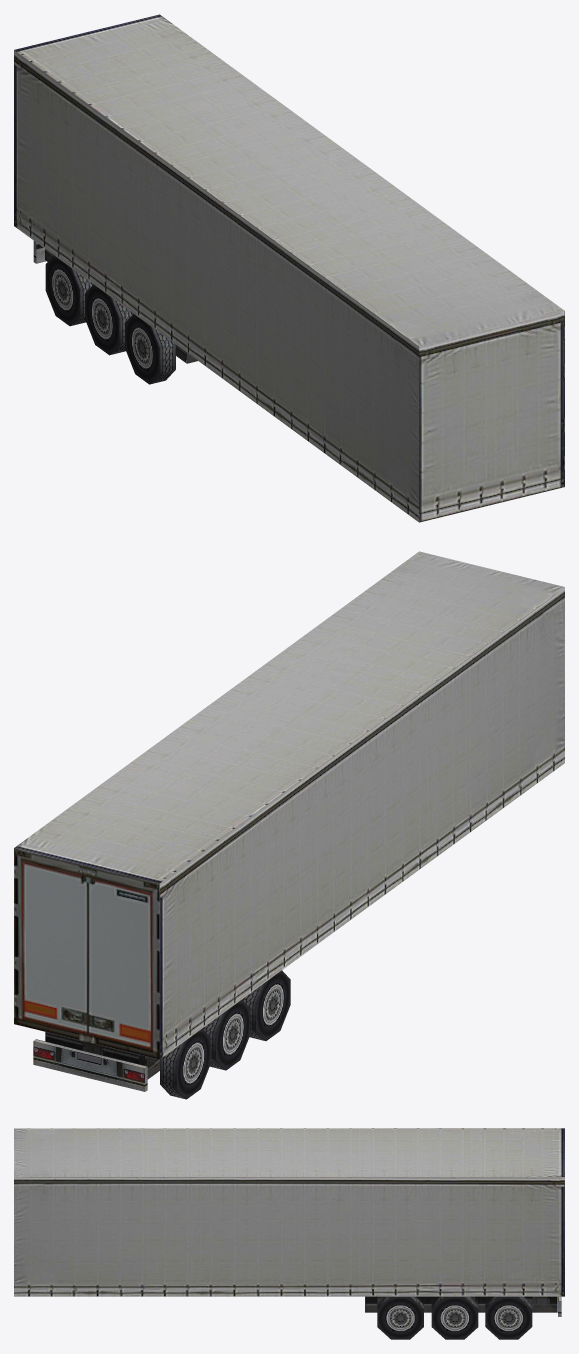
The model's file is Car_SemitrailerVinyl.fbx.
The picture shows the model from 3 angles, top to bottom: view 1: azimuth 30°, elevation 25°; view 2: azimuth 150°, elevation 25°; view 3: azimuth 270°, elevation 25°; orthographic projection. The views are drawn at different scales.
Parts seen in each view (by area): view 1: Car_SemitrailerVinyl; view 2: Car_SemitrailerVinyl; view 3: Car_SemitrailerVinyl.
Boxes of the visible parts, x1,y1,x2,y2 form: Car_SemitrailerVinyl: (14,14,564,522); Car_SemitrailerVinyl: (14,551,564,1099); Car_SemitrailerVinyl: (14,1128,564,1339).
Size of the model in its own units: 2.5 by 3.98 by 12.03.
